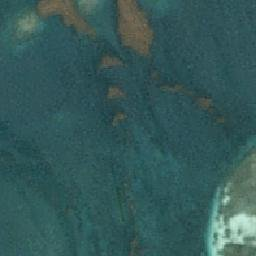debris: (111, 1, 157, 55), (38, 1, 96, 40), (198, 94, 225, 127), (153, 74, 185, 96), (100, 54, 124, 71), (105, 86, 124, 100), (111, 113, 125, 126)
